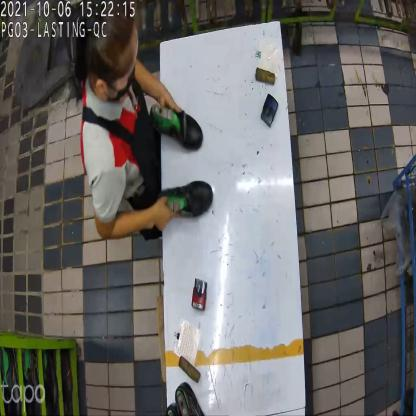shoes: (147, 100, 214, 217)
stamp: (190, 279, 210, 314), (259, 94, 278, 128)
